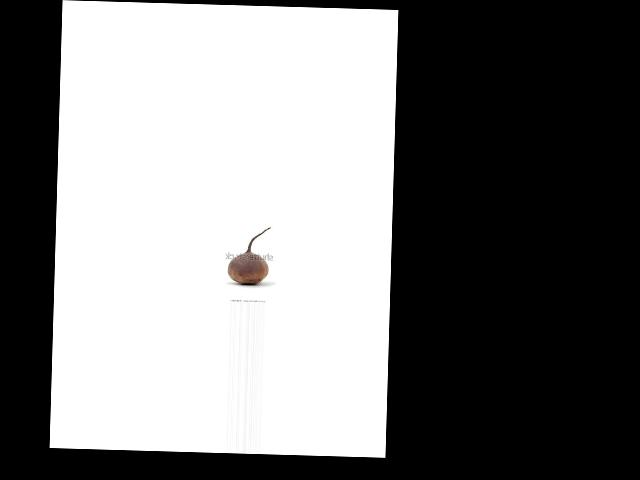beet: (226, 226, 270, 285)
